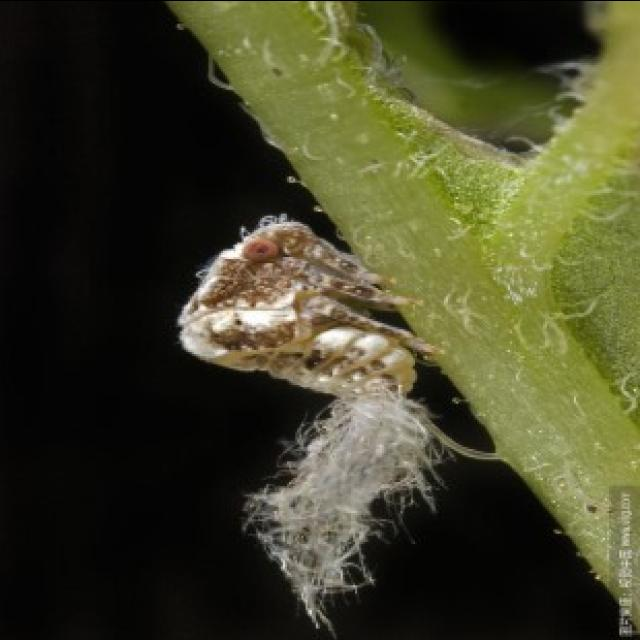brown plant hopper: (178, 215, 498, 634)
